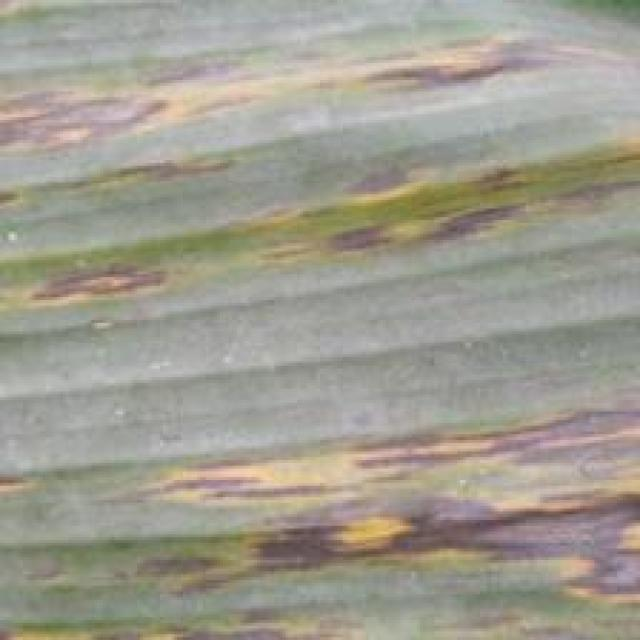Early_leaf_spot: (0, 0, 640, 637), (15, 242, 182, 316)
